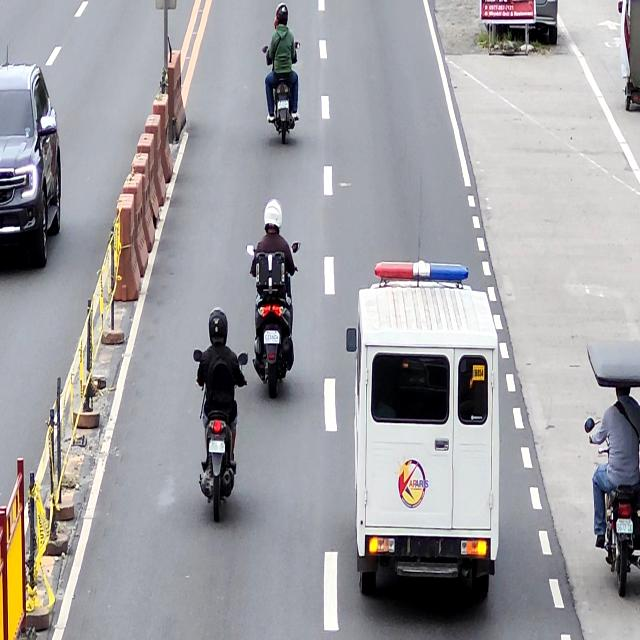Car: (345, 263, 501, 610)
License-Plate: (615, 518, 633, 536), (263, 330, 281, 345), (209, 440, 225, 454), (278, 100, 289, 110)
Motorcycle: (193, 344, 248, 520), (246, 245, 297, 400), (266, 41, 298, 143)
Tricycle: (584, 335, 640, 598)
